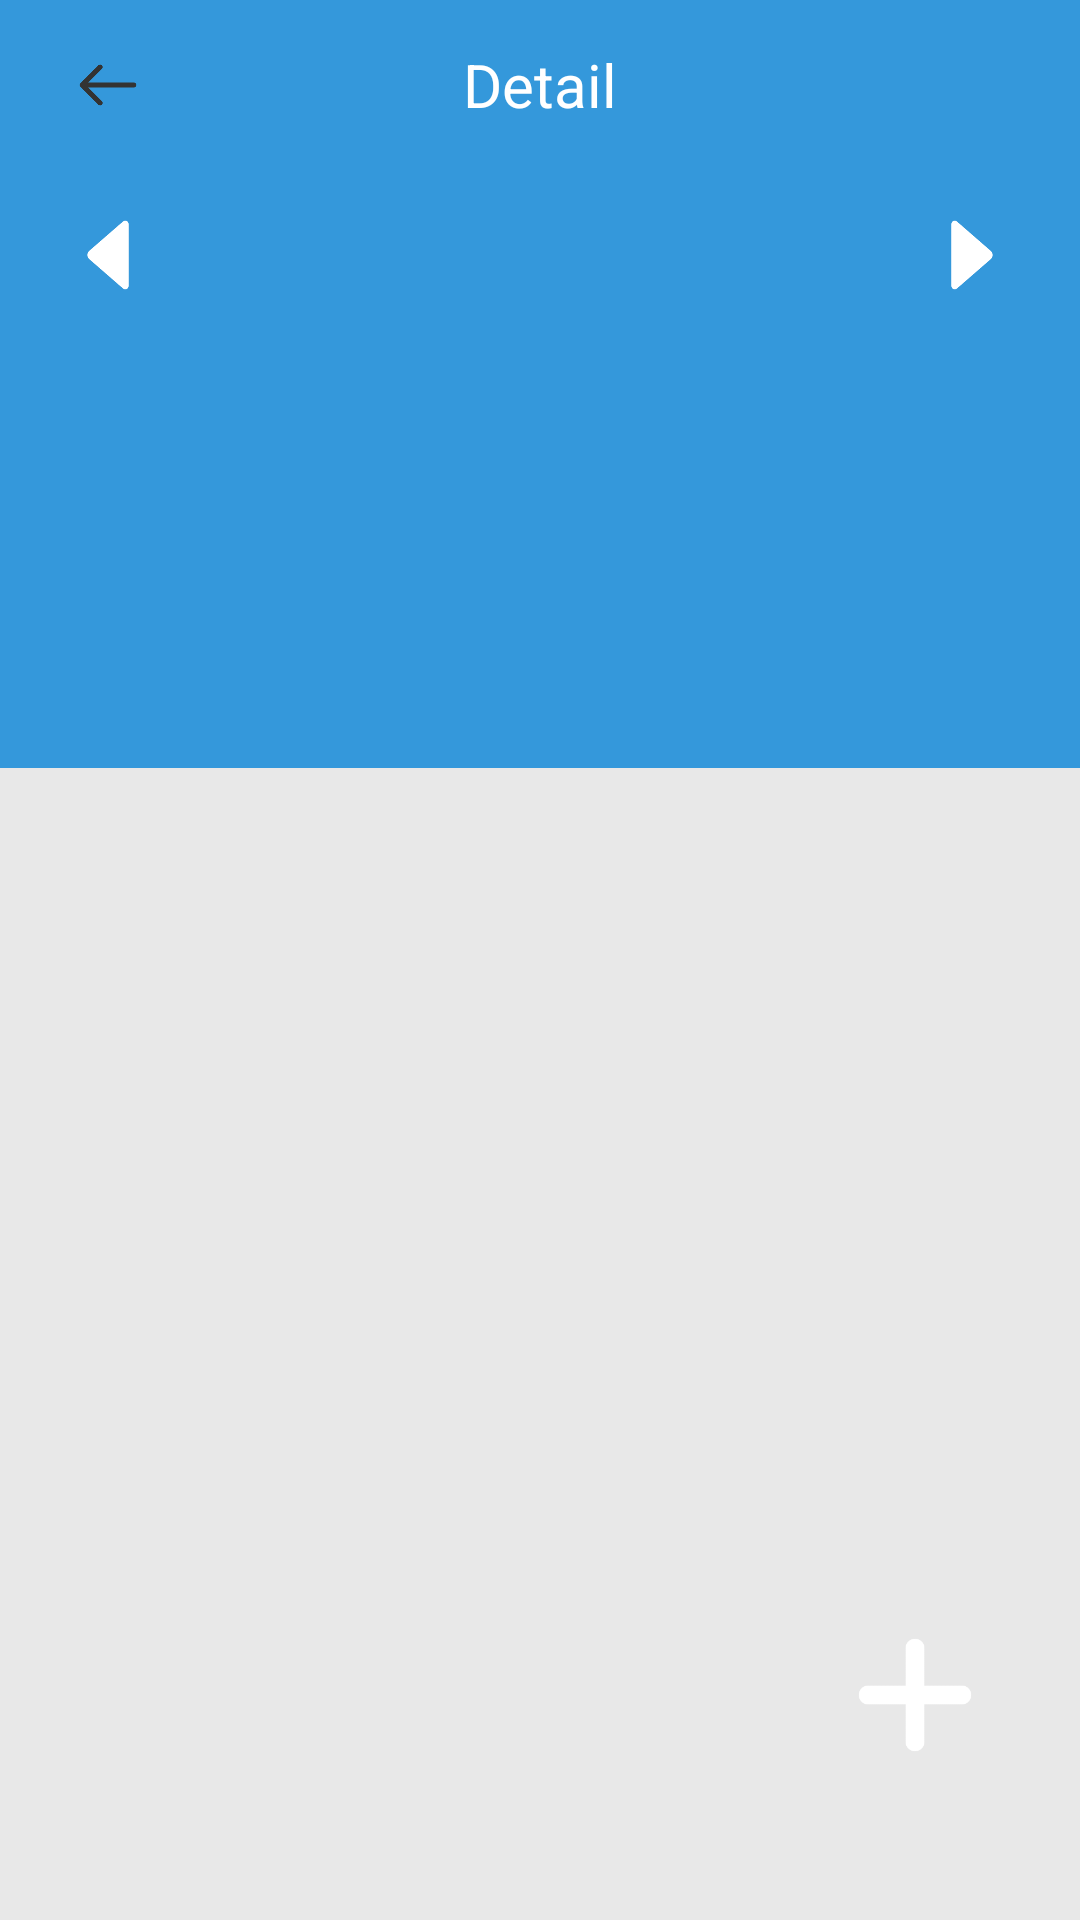

Point at icon controls on the screen. Image size 1080×1920, points as [x,y].
arrow left custom: [108,85]
left custom: [108,255]
right custom: [972,255]
